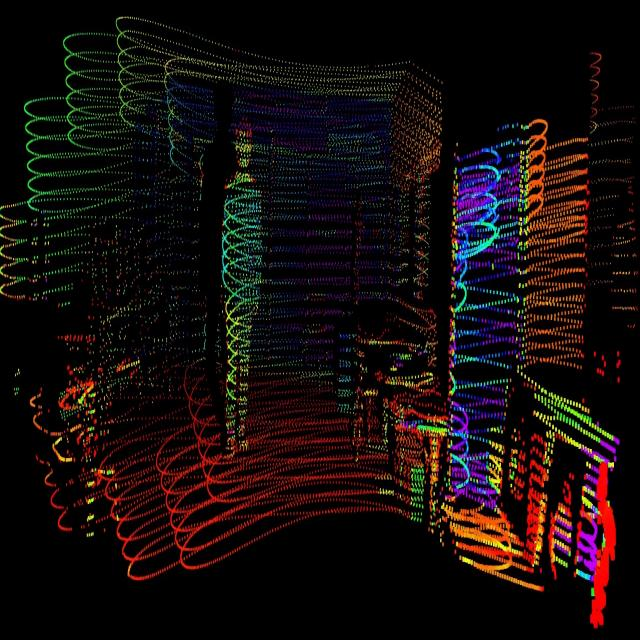human: (220, 101, 267, 458)
